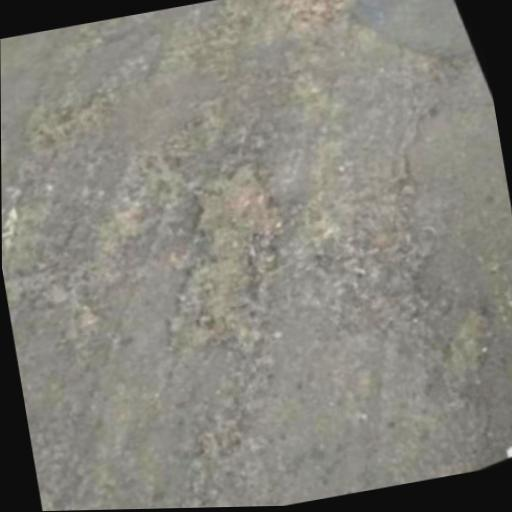pothole: (140, 104, 385, 272)
